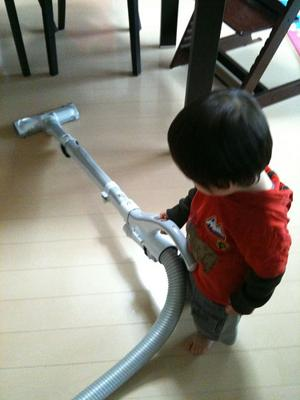person: (158, 86, 294, 357)
